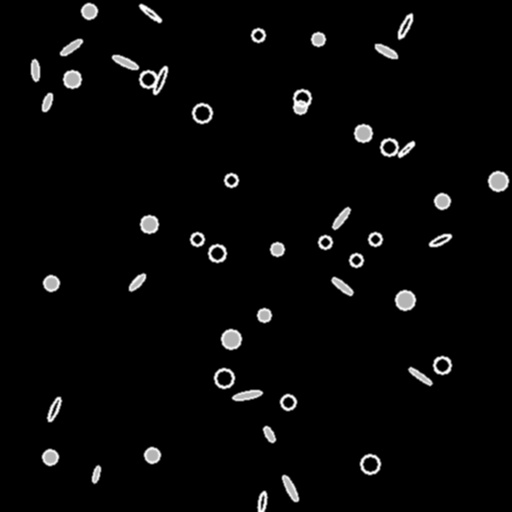pseudomonas: (151, 65, 169, 95), (111, 53, 139, 71), (396, 12, 414, 40), (281, 474, 299, 502), (59, 37, 83, 57), (138, 3, 162, 23), (331, 206, 351, 230), (330, 276, 354, 296), (408, 366, 432, 386), (374, 42, 398, 60), (46, 396, 62, 422), (127, 272, 147, 292), (429, 232, 451, 248), (233, 389, 261, 401), (397, 140, 415, 158), (40, 92, 54, 112), (262, 425, 276, 443), (257, 491, 267, 512), (31, 60, 39, 80), (92, 466, 100, 482)
synechocystis: (193, 104, 211, 122), (215, 369, 233, 387), (361, 455, 379, 473), (396, 291, 414, 309), (489, 172, 507, 190), (222, 330, 240, 348), (355, 125, 371, 141), (140, 71, 156, 87), (64, 71, 80, 87), (294, 90, 310, 106), (381, 139, 397, 155), (141, 216, 157, 232), (434, 357, 450, 373), (209, 245, 225, 261), (145, 448, 159, 462), (82, 4, 96, 18), (43, 450, 57, 464), (281, 395, 295, 409), (435, 194, 449, 208), (44, 276, 58, 290), (252, 29, 264, 41), (258, 309, 270, 321), (271, 243, 283, 255), (191, 233, 203, 245), (312, 33, 324, 45), (319, 236, 331, 248), (294, 101, 306, 113), (225, 174, 237, 186), (369, 233, 381, 245), (350, 254, 362, 266)
